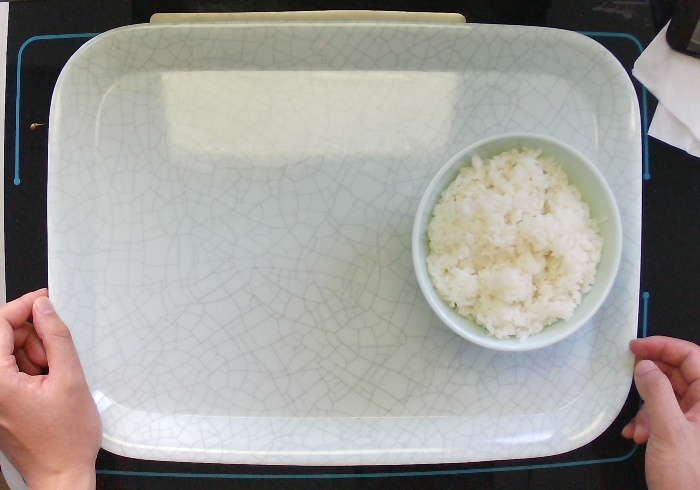JYsf-Fan_Wan: (405, 129, 636, 357)
